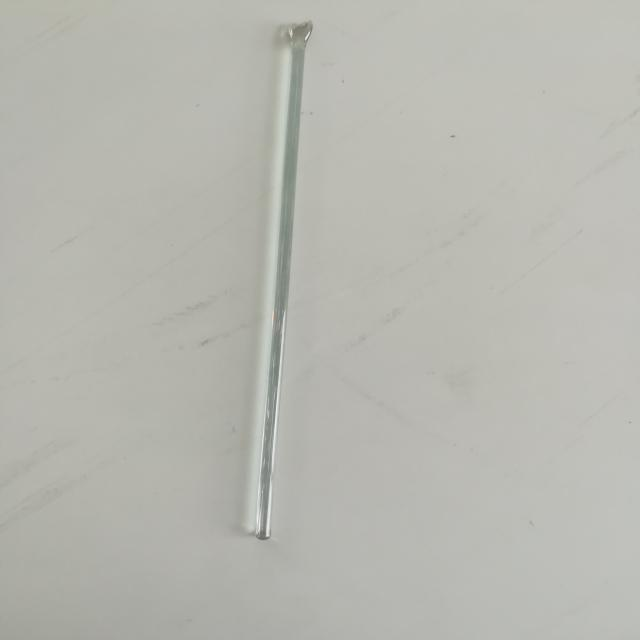Glass_Rod: (207, 2, 361, 565)
